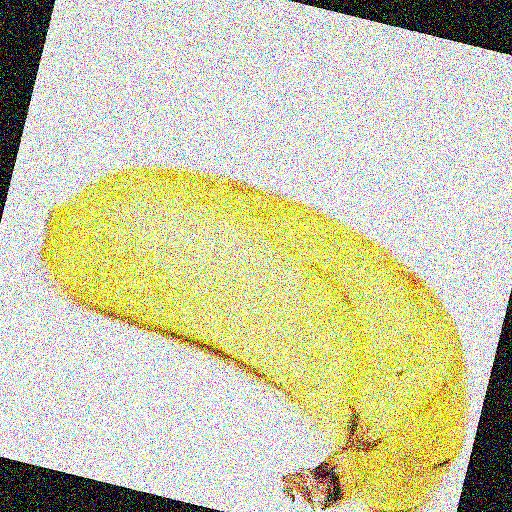fruit: (0, 91, 111, 420)
